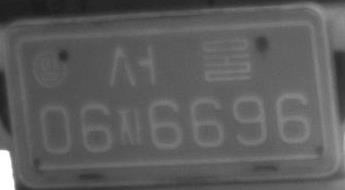0: (38, 102, 73, 154)
6: (275, 91, 312, 145), (189, 95, 225, 149), (77, 102, 113, 154), (147, 98, 182, 151)
9: (232, 94, 268, 148)
서울_D: (108, 35, 252, 87)
영: (31, 48, 69, 90)
자: (115, 107, 147, 147)
